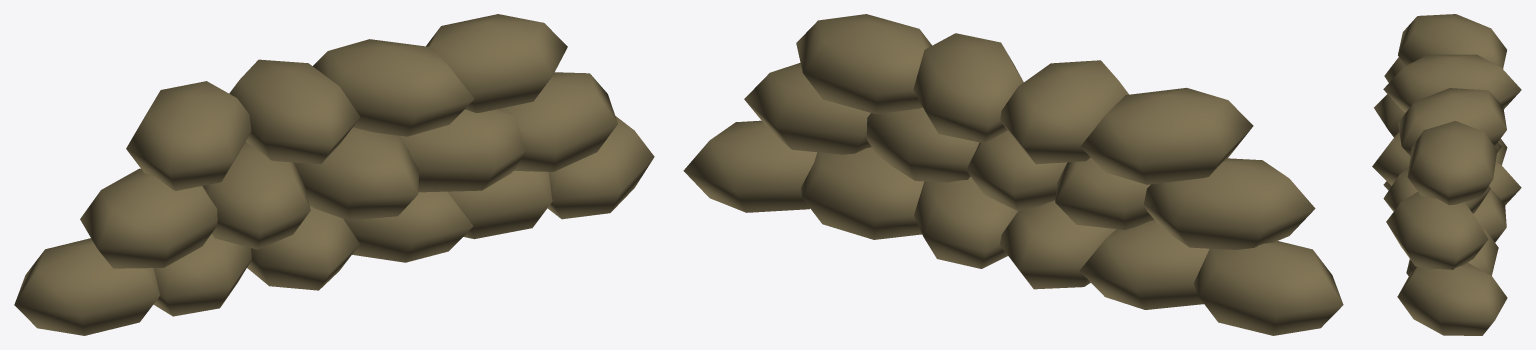
Rendered from sandbag_nest.glb.
The picture shows the model from 3 angles, left to right: view 1: azimuth 30°, elevation 25°; view 2: azimuth 150°, elevation 25°; view 3: azimuth 270°, elevation 25°; orthographic projection. The views are drawn at different scales.
Parts seen in each view (by area): view 1: SandbagNest; view 2: SandbagNest; view 3: SandbagNest.
Part boxes in pixels (bbox=[...]): SandbagNest: bbox=[14, 14, 654, 335]; SandbagNest: bbox=[683, 14, 1343, 335]; SandbagNest: bbox=[1372, 14, 1521, 335].
Bounding box in the file's own units: 2.95 × 0.924 × 0.786.
